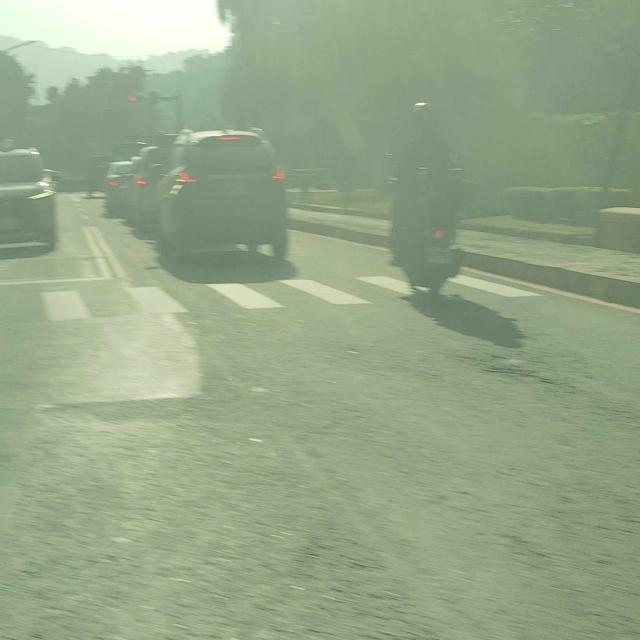zebra crossing: (7, 268, 526, 326)
